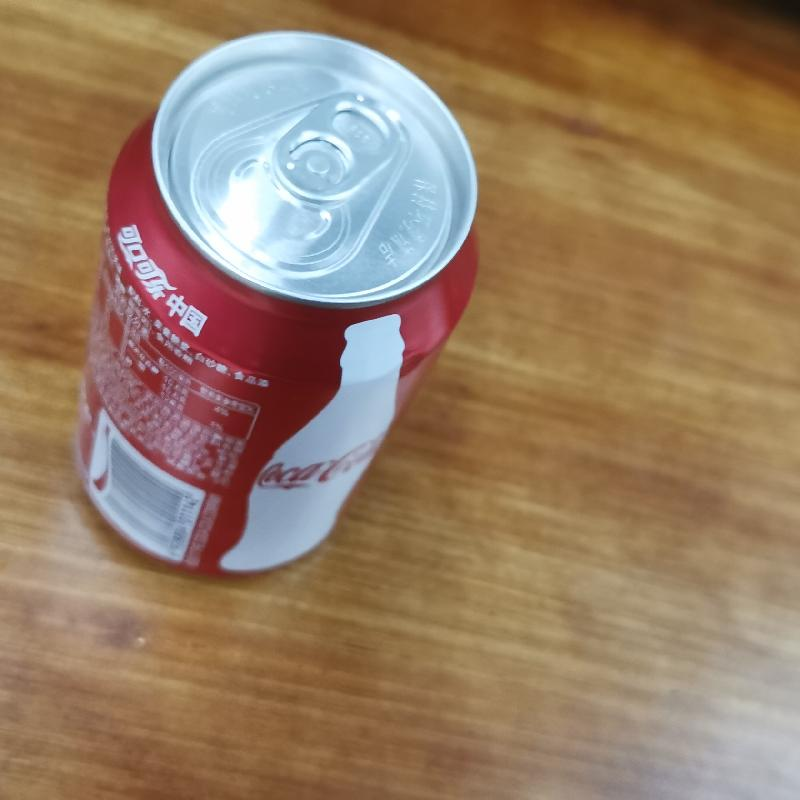cans: (68, 28, 483, 582)
